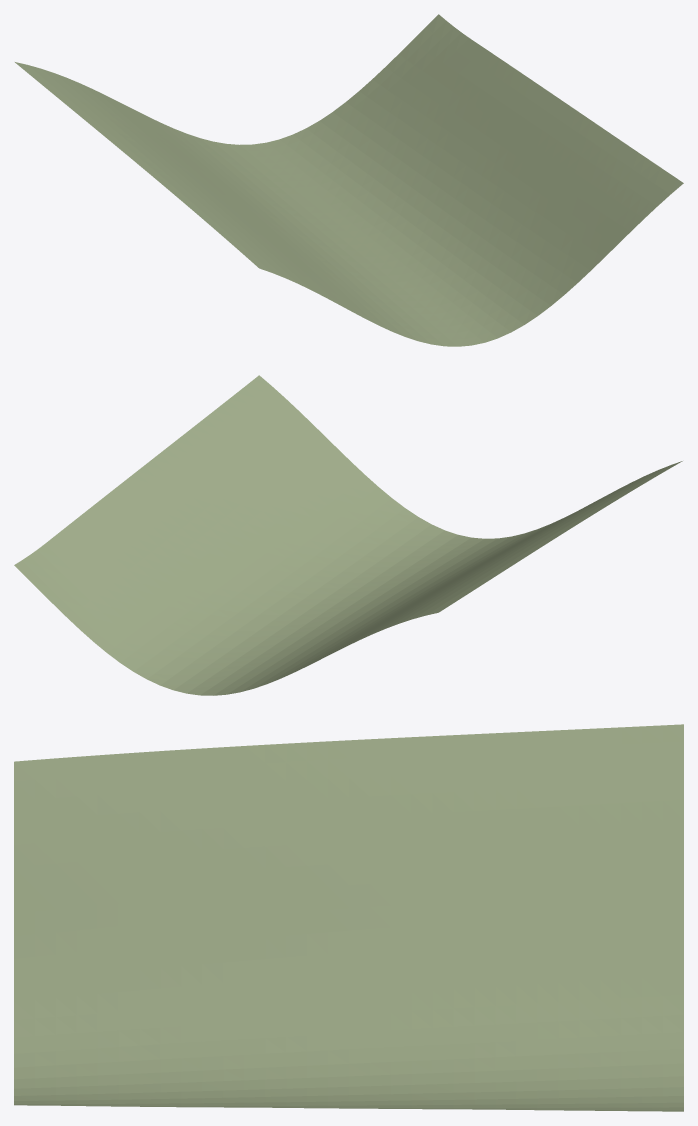
The model's file is expanse-14-10.glb.
3 views of the same model, one above another, from view 1: azimuth 30°, elevation 25°; view 2: azimuth 150°, elevation 25°; view 3: azimuth 270°, elevation 25° (orthographic). The views are drawn at different scales.
Visible parts, largest first — view 1: expanse-14-10; view 2: expanse-14-10; view 3: expanse-14-10.
Boxes of the visible parts, x1=… form: expanse-14-10: x1=15, y1=14, x2=683, y2=346; expanse-14-10: x1=14, y1=375, x2=682, y2=695; expanse-14-10: x1=14, y1=724, x2=683, y2=1111.
Size of the model in its own units: 256 by 90.2 by 256.
